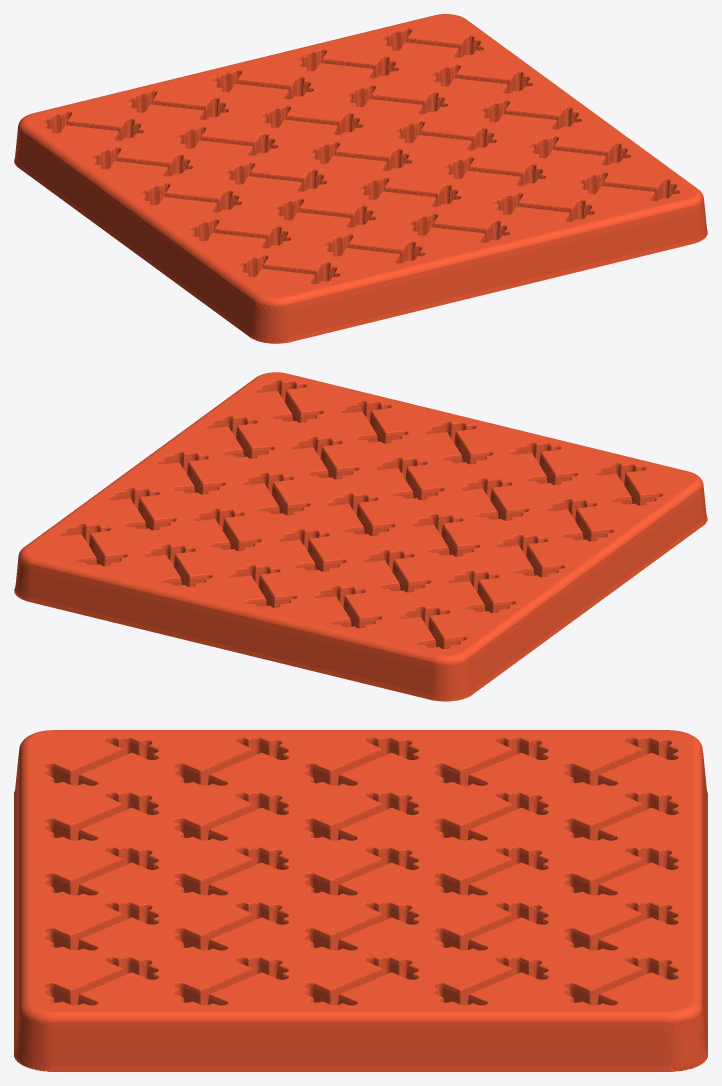
File: mold.glb
The picture shows the model from 3 angles, top to bottom: view 1: azimuth 30°, elevation 25°; view 2: azimuth 150°, elevation 25°; view 3: azimuth 270°, elevation 25°; orthographic projection. The views are drawn at different scales.
Visible parts, largest first — view 1: geometry_0; view 2: geometry_0; view 3: geometry_0.
Part boxes in pixels (left/top/right/bottom): geometry_0: left=14, top=14, right=707, bottom=343; geometry_0: left=14, top=372, right=707, bottom=701; geometry_0: left=14, top=730, right=707, bottom=1071.
Bounding box in the file's own units: 0.1584 × 0.0136 × 0.1584.
